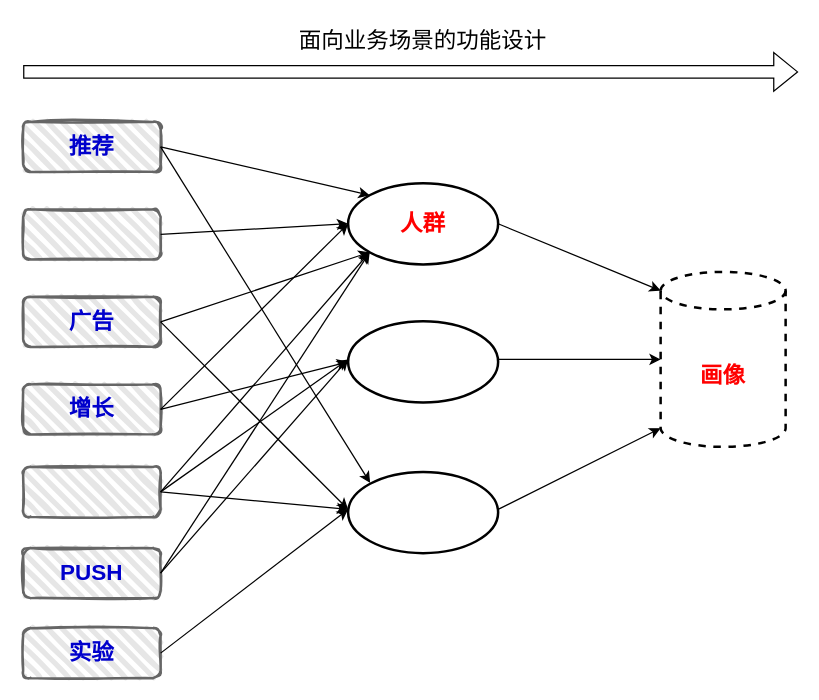
Some shapes in this 819 by 700 pixel diagram are drawn without their labels. The box of each missing label's shape, as (x1, y1, x2, y2) in pixels:
分析: (346, 319, 499, 403)
定向: (21, 465, 161, 518)
搜索: (21, 208, 161, 260)
服务: (346, 470, 499, 554)
